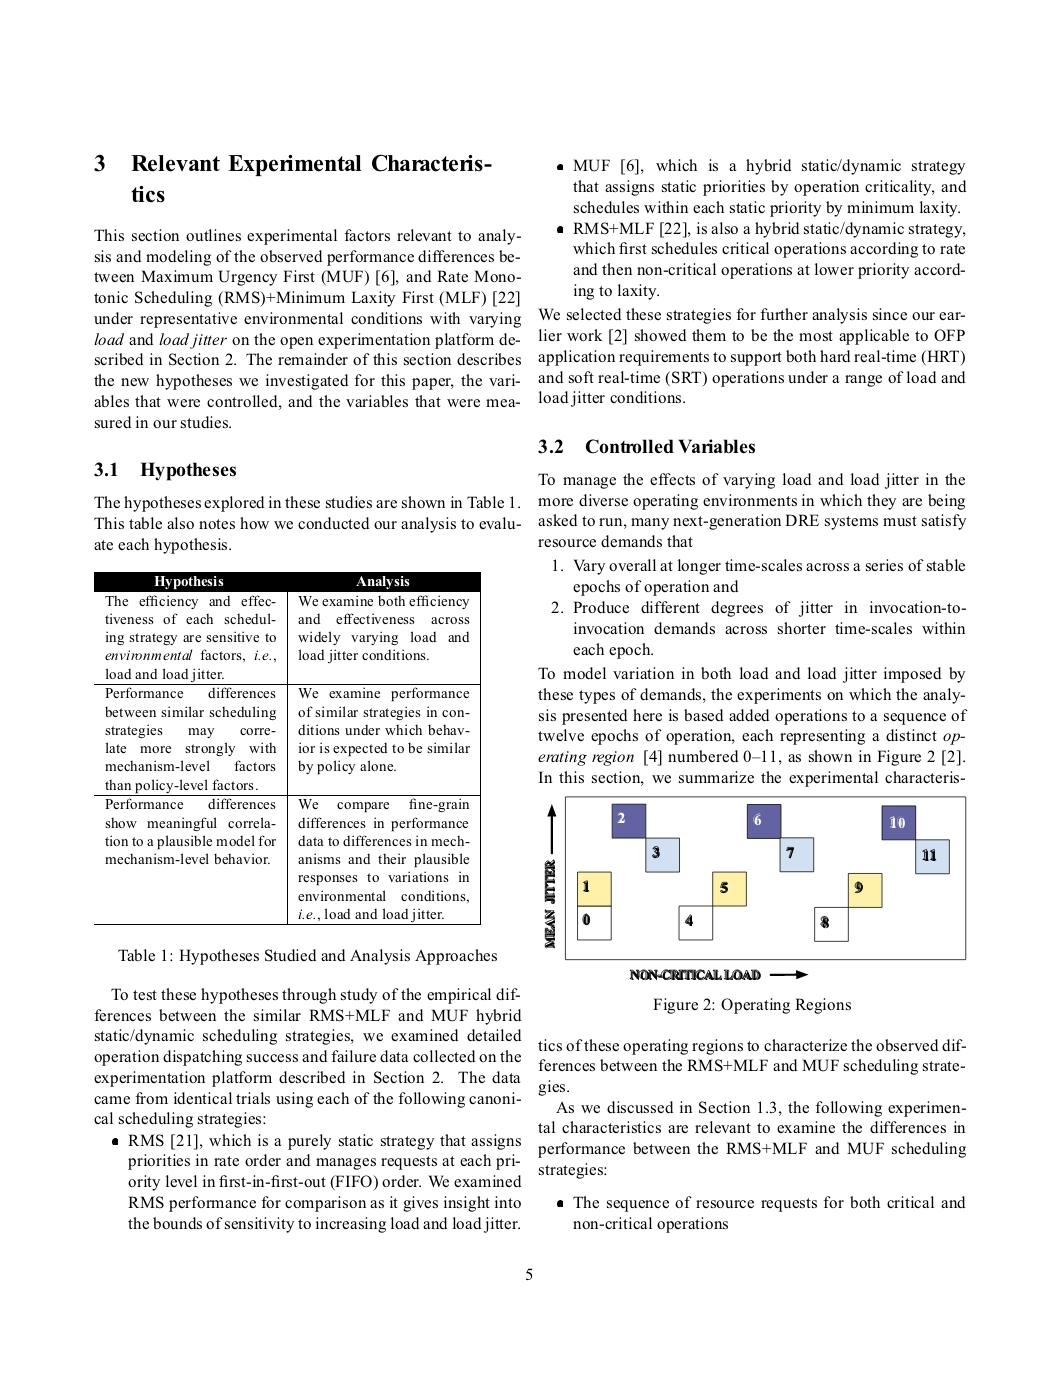Table: (94, 571, 480, 925)
figure: (544, 796, 966, 980)
